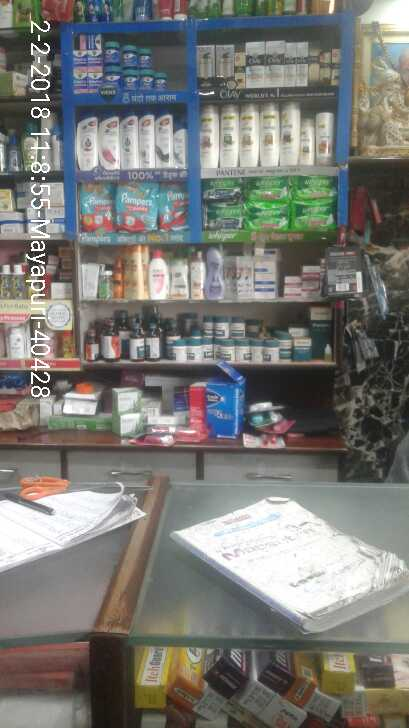vicks: (73, 31, 168, 94)
